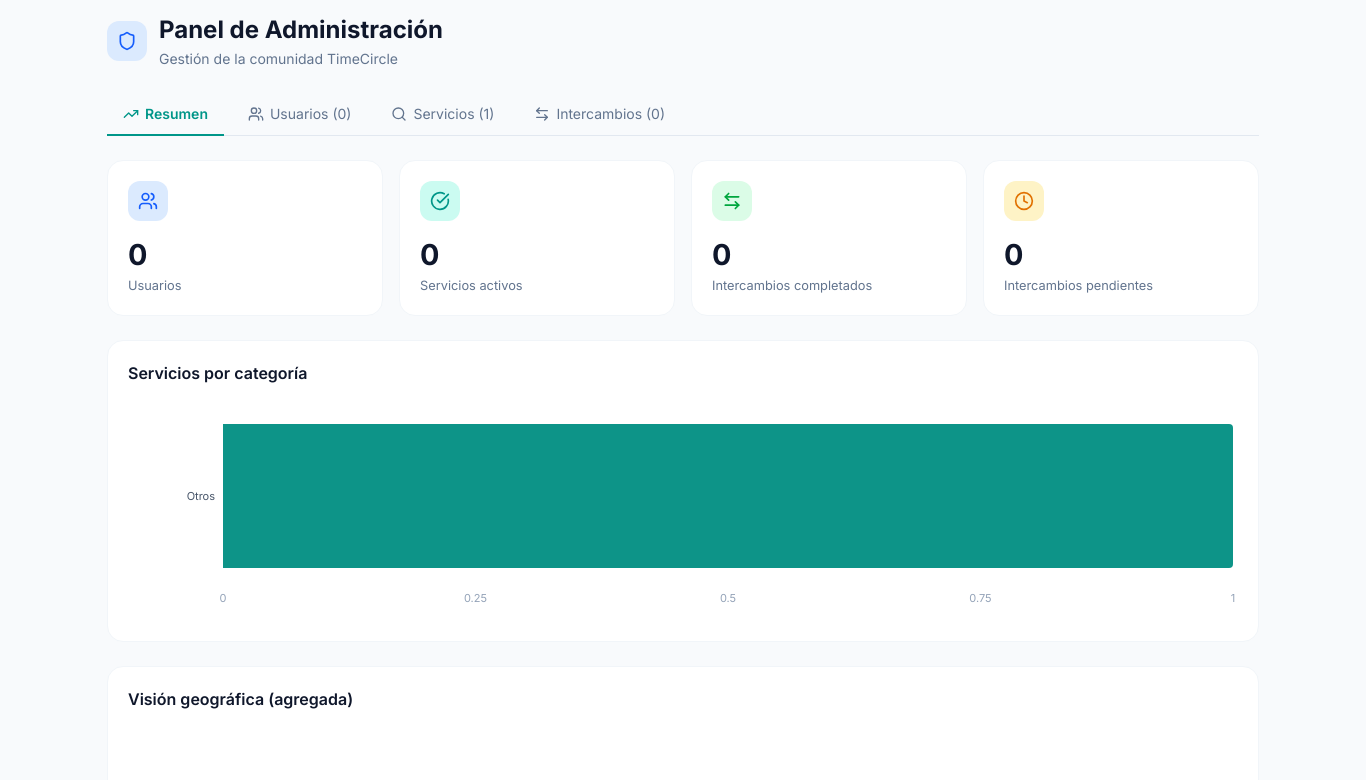
Test: Admin page › services tab with paused status shows correctly
Click the button "Servicios (1)" at (443, 114), box [376,93,510,136]
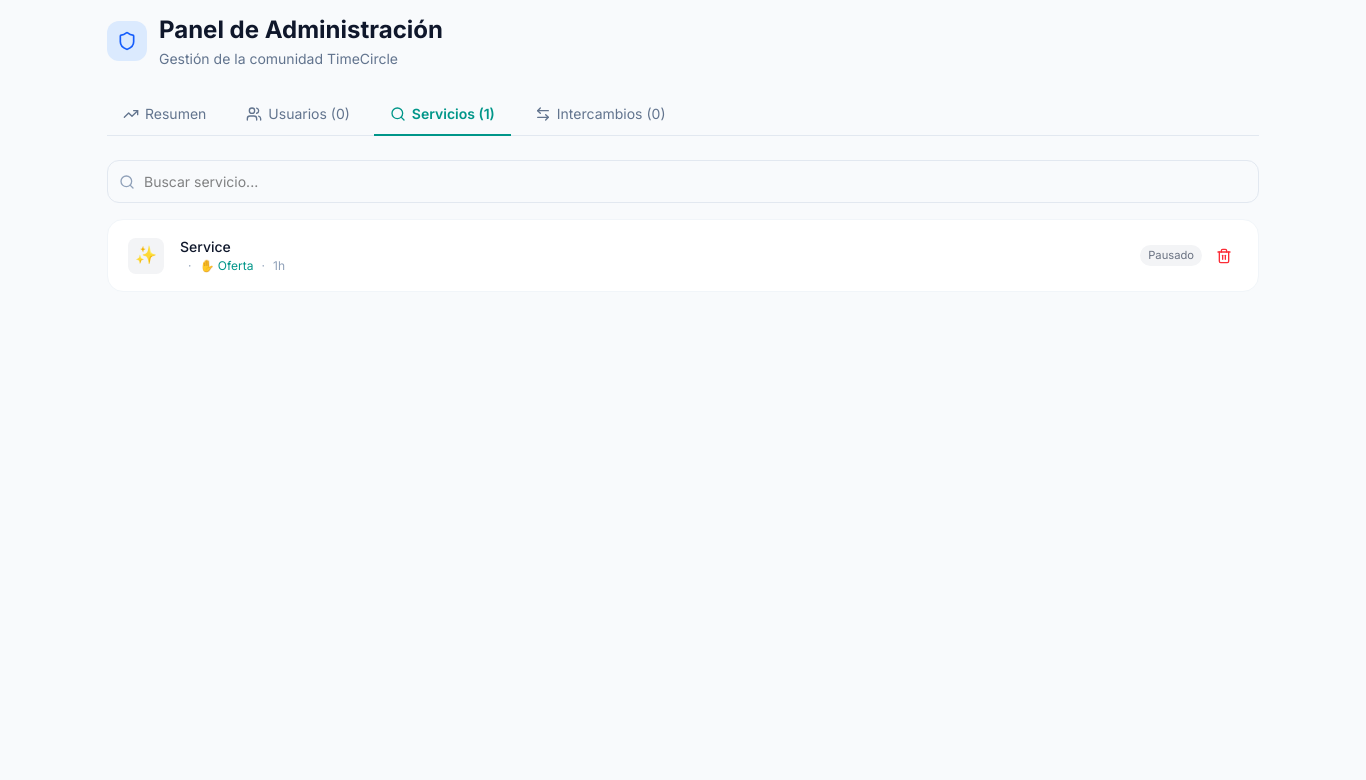
Check: the text "Pausado" is shown, box [1140,245,1202,266]
